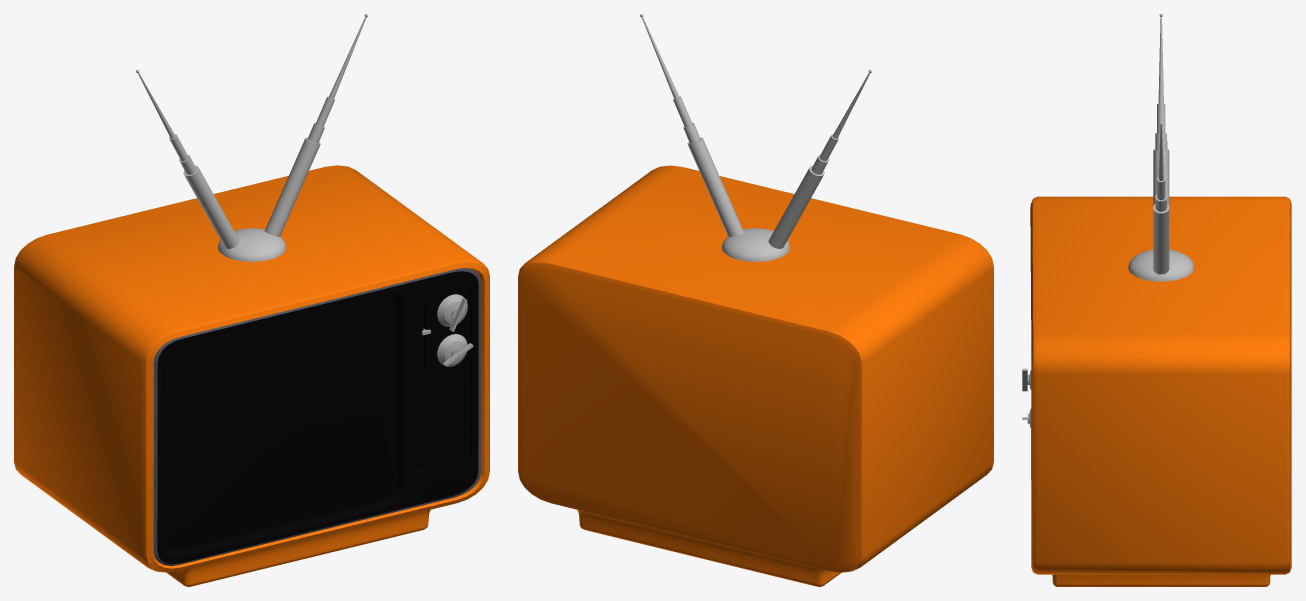
3 renders of one model, left to right at view 1: azimuth 30°, elevation 25°; view 2: azimuth 150°, elevation 25°; view 3: azimuth 270°, elevation 25°, orthographic. The views are drawn at different scales.
Parts seen in each view (by area): view 1: Куб, ВерхнийТумблер, НижнийТумблер; view 2: Куб; view 3: Куб.
Boxes of the visible parts, x1,y1,x2,y2 form: Куб: (14,14,489,586); ВерхнийТумблер: (437,294,467,331); НижнийТумблер: (437,334,473,366); Куб: (518,14,993,586); Куб: (1030,14,1291,586).
Bounding box in the file's own units: 300 × 392 × 207.
